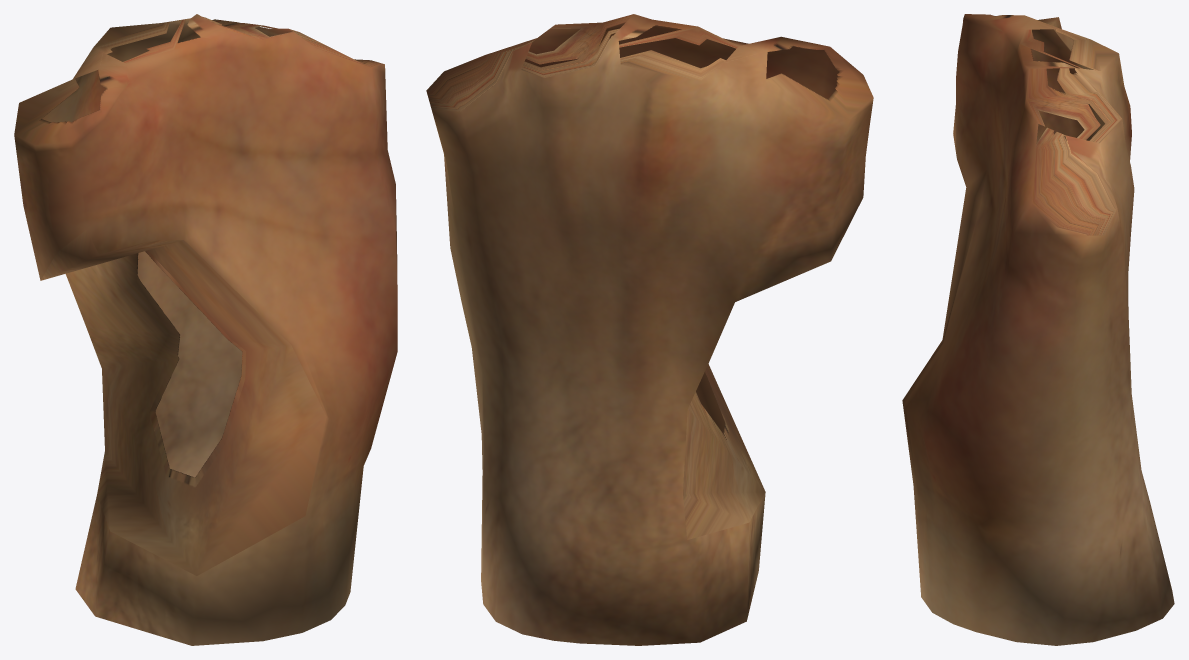
The model's file is palm_l.dae.
The picture shows the model from 3 angles, left to right: view 1: azimuth 30°, elevation 25°; view 2: azimuth 150°, elevation 25°; view 3: azimuth 270°, elevation 25°; orthographic projection. The views are drawn at different scales.
Visible parts, largest first — view 1: hand_l; view 2: hand_l; view 3: hand_l.
Part boxes in pixels (box(x1,y1,x2,y2)): hand_l: box(14, 14, 397, 645); hand_l: box(426, 14, 873, 645); hand_l: box(902, 14, 1174, 645).
Bounding box in the file's own units: 0.092 × 0.0603 × 0.1274.
Materials: 1 (1 with a texture image).
